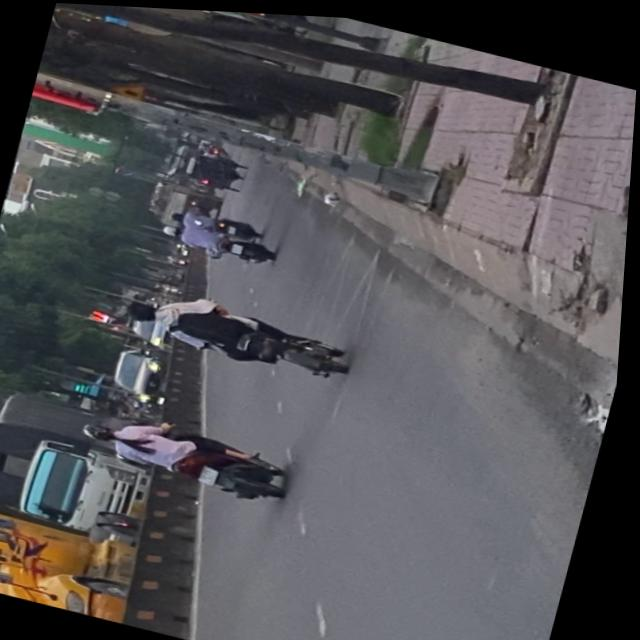helmet: (85, 419, 123, 445)
licenseplate: (119, 275, 368, 387), (76, 403, 301, 504)
motorcyclist: (125, 296, 167, 325)
nohelmet: (204, 463, 225, 483)
